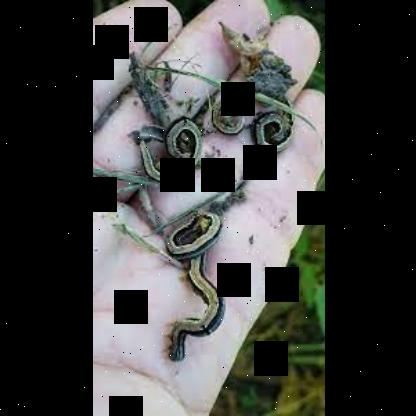oruga: (174, 251, 228, 367), (134, 116, 207, 182), (162, 206, 220, 258), (252, 111, 294, 153), (208, 94, 248, 134)
